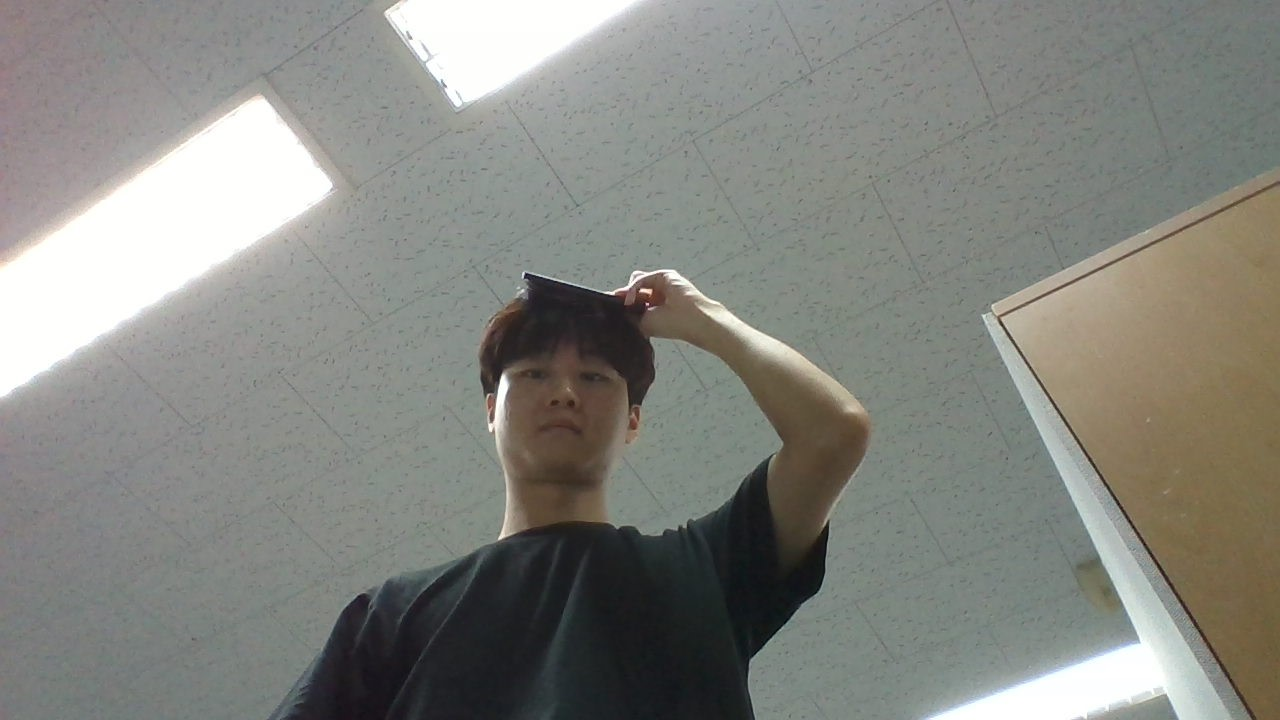Non-Helmet: (450, 264, 667, 499)
